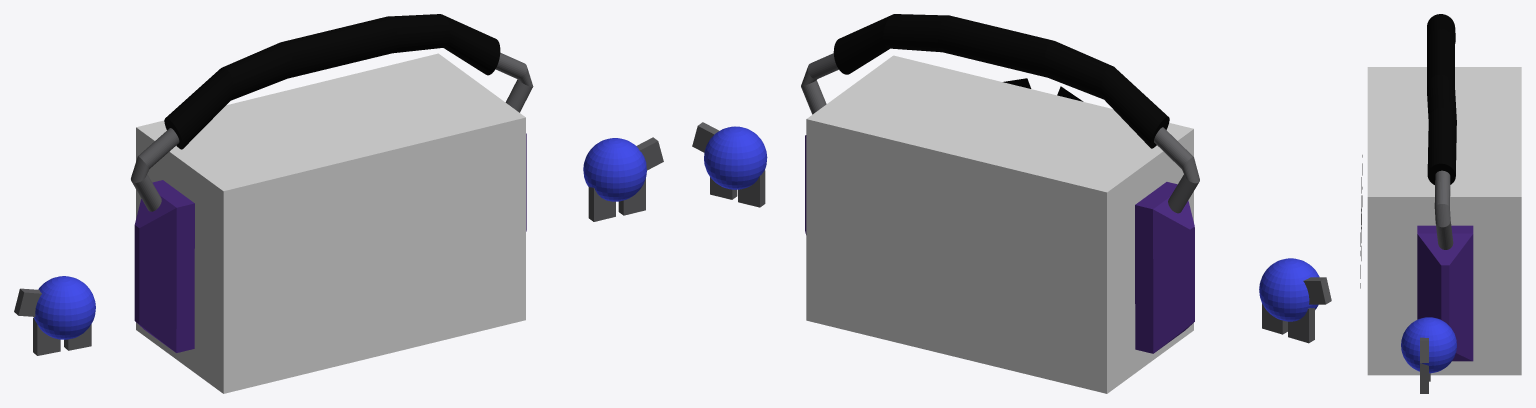
Rendered from botcito.glb.
3 renders of one model, left to right at view 1: azimuth 30°, elevation 25°; view 2: azimuth 150°, elevation 25°; view 3: azimuth 270°, elevation 25°, orthographic. The views are drawn at different scales.
Visible parts, largest first — view 1: Cube, Cilindro.002, Cube.002, Esfera, Esfera.001, Cilindro.001, Cilindro, Cubo, Cubo.004, Cubo.005; view 2: Cube, Cilindro.002, Cube.002, Esfera, Esfera.001, Cilindro.001, Cilindro, Cubo.004, Cubo, Cubo.005; view 3: Cube, Cube.001, Cilindro.002, Esfera, Cilindro, Cubo.001, Cubo.002.
Part boxes in pixels (x1,y1,x2,y2): Cube: (136,53,525,393); Cilindro.002: (164,14,500,149); Cube.002: (134,180,194,352); Esfera: (583,138,646,201); Esfera.001: (34,276,95,339); Cilindro.001: (131,128,179,211); Cilindro: (495,52,533,112); Cubo: (588,186,615,221); Cubo.004: (33,317,60,355); Cubo.005: (14,288,41,316); Cube: (806,55,1193,393); Cilindro.002: (833,14,1169,148); Cube.002: (1135,182,1194,353); Esfera: (704,126,767,189); Esfera.001: (1259,258,1319,321); Cilindro.001: (1154,127,1199,213); Cilindro: (801,53,838,114); Cubo.004: (1288,308,1314,343); Cubo: (738,170,765,207); Cubo.005: (1303,277,1331,304); Cube: (1367,67,1521,375); Cube.001: (1417,225,1473,361); Cilindro.002: (1427,14,1456,184); Esfera: (1401,317,1456,373); Cilindro: (1434,170,1453,249); Cubo.001: (1420,363,1428,393); Cubo.002: (1420,337,1428,362).
Bounding box in the file's own units: 7.47 × 3.29 × 1.85.
